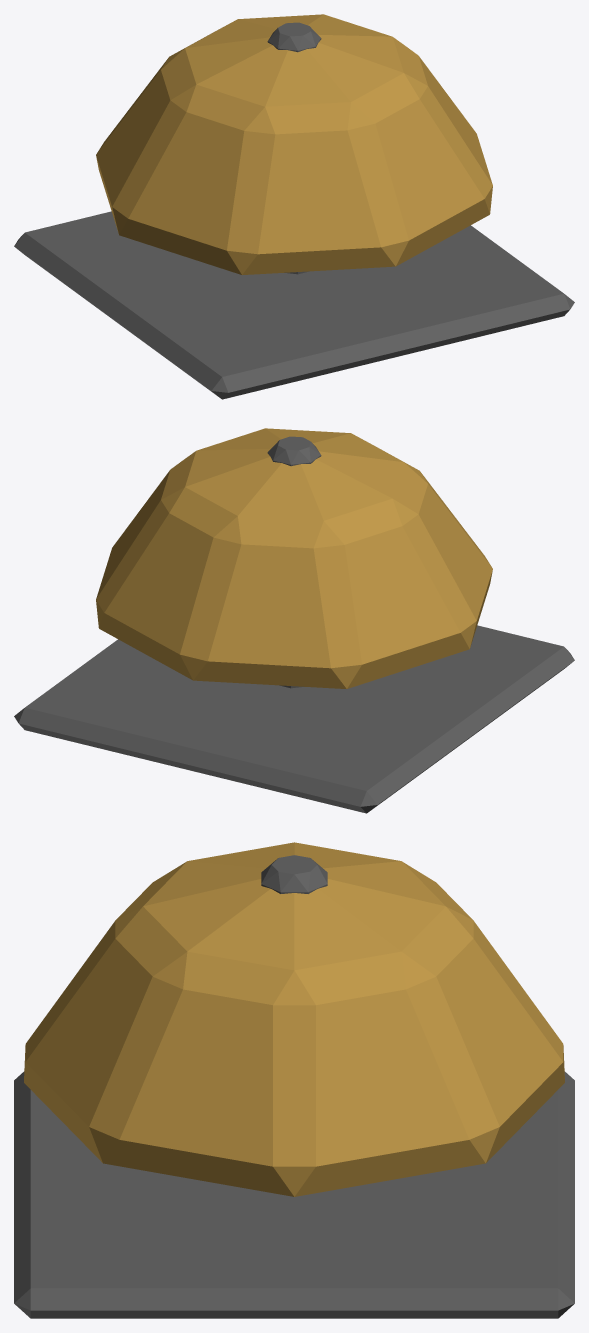
File: Bell.fbx
3 renders of one model, top to bottom at view 1: azimuth 30°, elevation 25°; view 2: azimuth 150°, elevation 25°; view 3: azimuth 270°, elevation 25°, orthographic. The views are drawn at different scales.
Visible parts, largest first — view 1: Bell, Bottom, Middle; view 2: Bell, Bottom, Middle; view 3: Bell, Bottom, Middle.
Part boxes in pixels (x1,y1,x2,y2): Bell: (96, 14, 492, 274); Bottom: (14, 211, 574, 399); Middle: (267, 22, 321, 274); Bell: (96, 428, 492, 688); Bottom: (14, 625, 574, 813); Middle: (267, 436, 321, 688); Bell: (24, 842, 564, 1196); Bottom: (14, 1071, 574, 1318); Middle: (261, 855, 327, 893).
Bounding box in the file's own units: 35.02 × 23.58 × 35.02.
